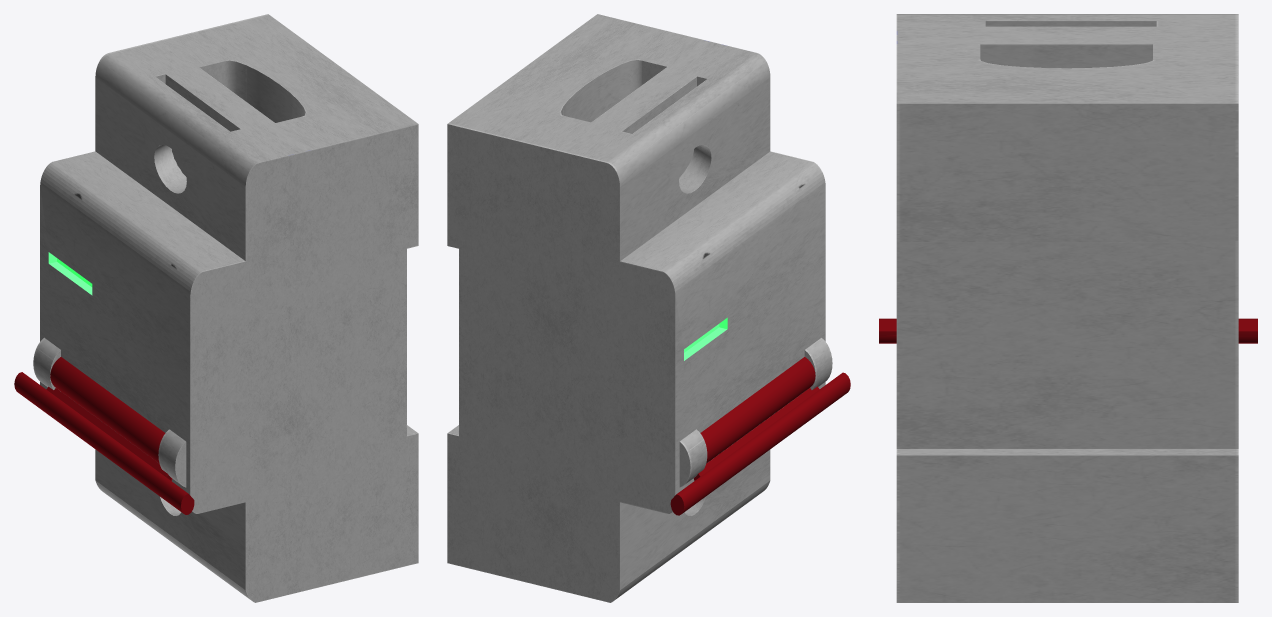
Rendered from breaker.fbx.
The picture shows the model from 3 angles, left to right: view 1: azimuth 30°, elevation 25°; view 2: azimuth 150°, elevation 25°; view 3: azimuth 270°, elevation 25°; orthographic projection. The views are drawn at different scales.
Visible parts, largest first — view 1: Sigortadenemeicsigfbx, toggle; view 2: Sigortadenemeicsigfbx, toggle; view 3: Sigortadenemeicsigfbx, toggle.
Boxes of the visible parts, x1=… form: Sigortadenemeicsigfbx: x1=33, y1=14, x2=418, y2=602; toggle: x1=14, y1=357, x2=194, y2=514; Sigortadenemeicsigfbx: x1=447, y1=14, x2=832, y2=602; toggle: x1=670, y1=357, x2=850, y2=515; Sigortadenemeicsigfbx: x1=896, y1=14, x2=1238, y2=602; toggle: x1=879, y1=318, x2=1257, y2=343.
Size of the model in its own units: 22.34 by 38.19 by 26.25.
